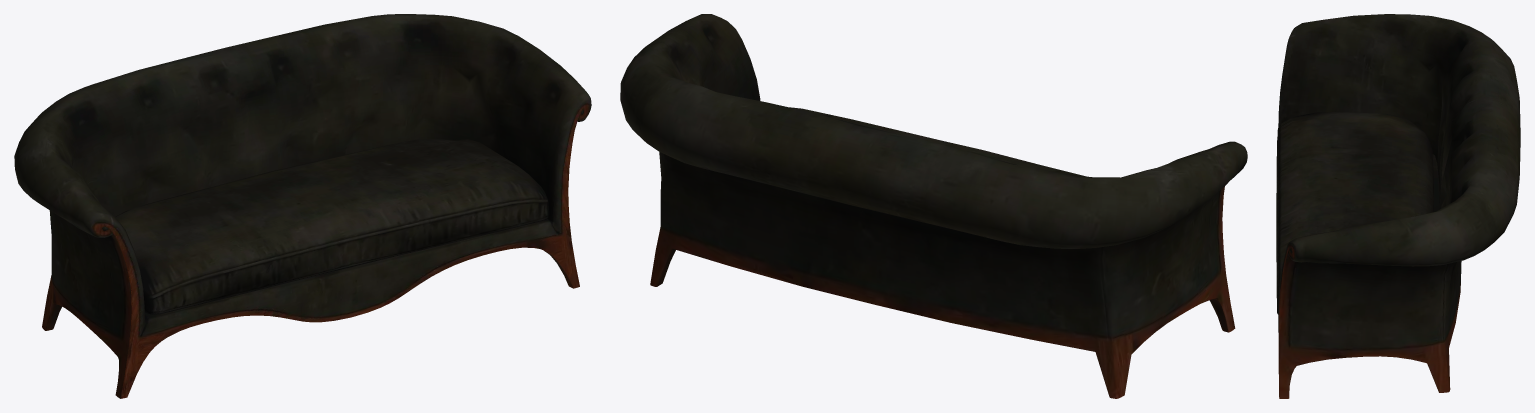
The model's file is sofa_02.glb.
3 renders of one model, left to right at view 1: azimuth 30°, elevation 25°; view 2: azimuth 150°, elevation 25°; view 3: azimuth 270°, elevation 25°, orthographic. The views are drawn at different scales.
Parts seen in each view (by area): view 1: sofa_02_Base, sofa_02_Seat; view 2: sofa_02_Base, sofa_02_Seat; view 3: sofa_02_Base, sofa_02_Seat.
Part boxes in pixels (bbox=[...]): sofa_02_Base: bbox=[14, 14, 591, 398]; sofa_02_Seat: bbox=[115, 139, 549, 314]; sofa_02_Base: bbox=[620, 14, 1247, 398]; sofa_02_Seat: bbox=[789, 107, 1086, 176]; sofa_02_Base: bbox=[1278, 14, 1520, 398]; sofa_02_Seat: bbox=[1276, 112, 1433, 314].
Size of the model in its own units: 1.81 by 0.7095 by 0.8178.
1 material, 1 textured.
